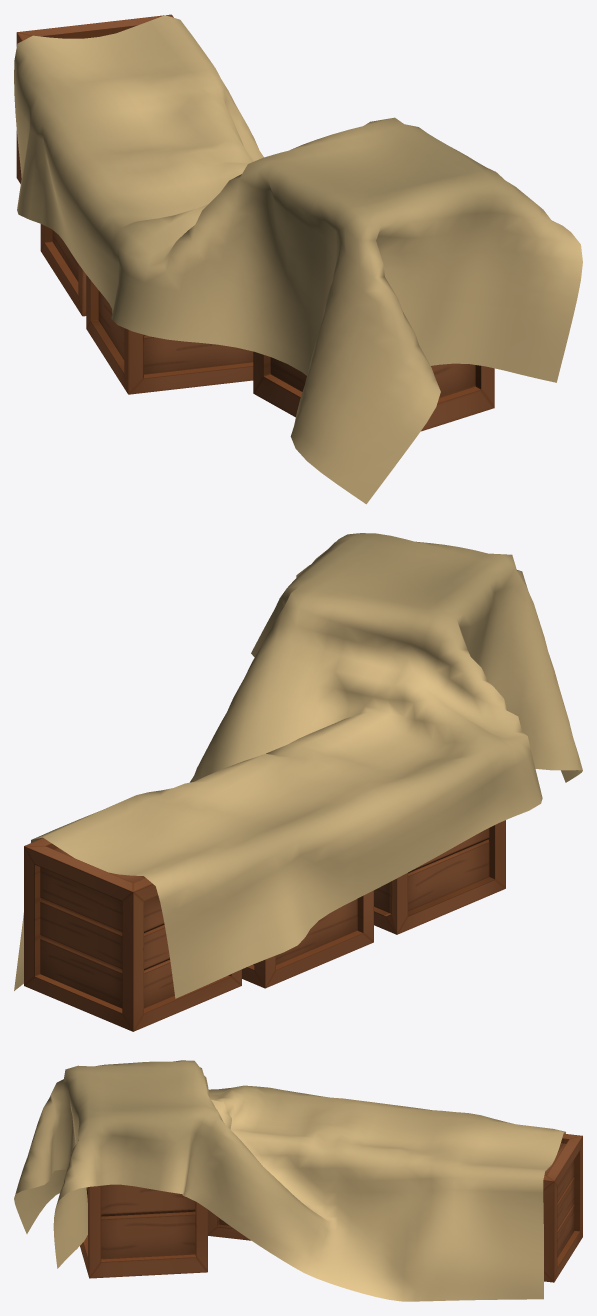
Rendered from CAIXAS PANO.fbx.
3 views of the same model, one above another, from view 1: azimuth 30°, elevation 25°; view 2: azimuth 150°, elevation 25°; view 3: azimuth 270°, elevation 25° (orthographic). The views are drawn at different scales.
Visible parts, largest first — view 1: pano caixas.001, caixas; view 2: pano caixas.001, caixas; view 3: pano caixas.001, caixas.
Part boxes in pixels (bbox=[...]): pano caixas.001: bbox=[14, 15, 582, 504]; caixas: bbox=[16, 14, 494, 431]; pano caixas.001: bbox=[14, 533, 582, 998]; caixas: bbox=[24, 820, 505, 1031]; pano caixas.001: bbox=[14, 1060, 565, 1301]; caixas: bbox=[80, 1133, 582, 1282].
Size of the model in its own units: 311 by 215 by 621.
2 materials, 2 textured.
